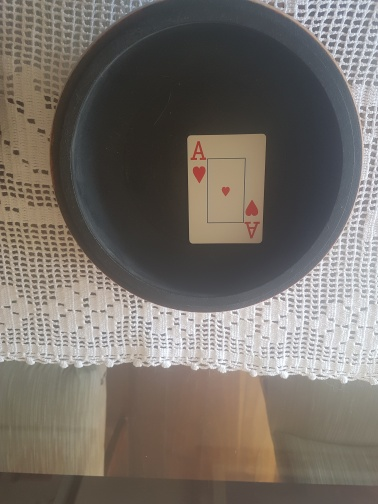ace: (186, 133, 265, 244)
